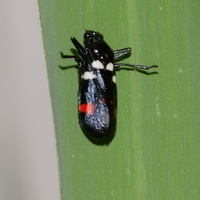insect: (60, 30, 157, 144)
